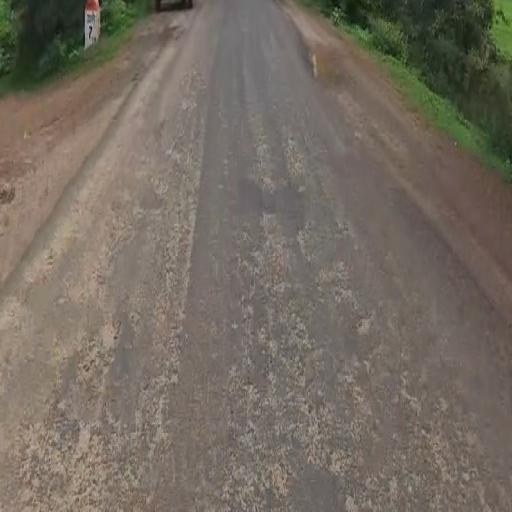ravelling: (46, 205, 194, 489)
